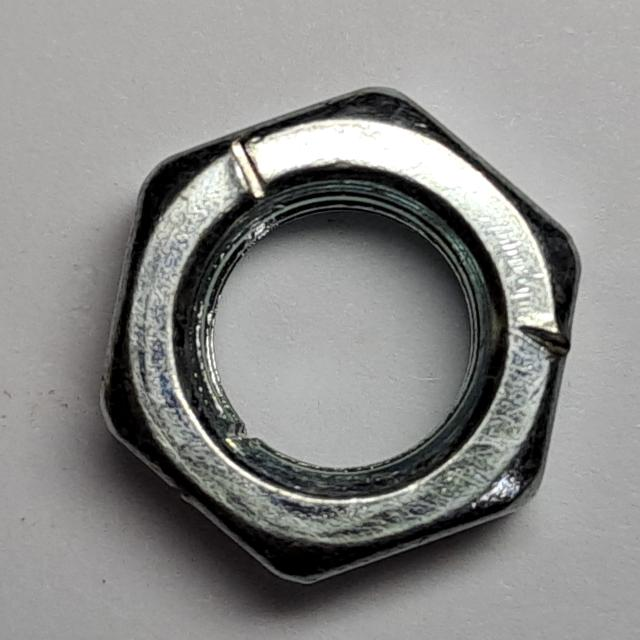Scratches: (85, 64, 595, 601)
